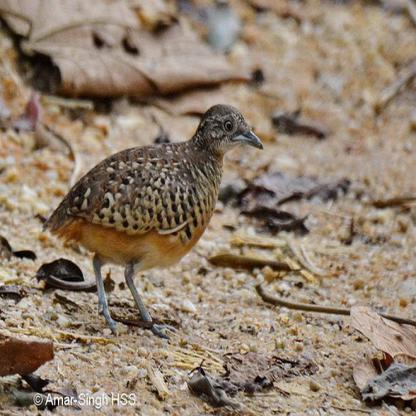Burung: (41, 104, 263, 340)
